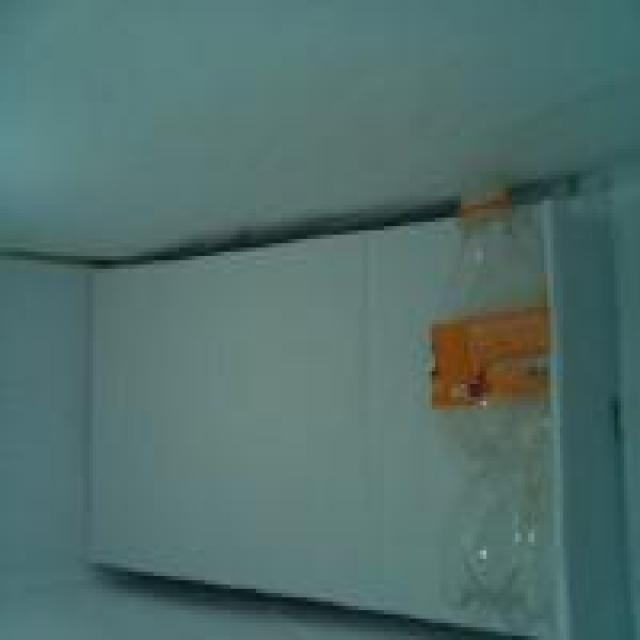bottle: (397, 151, 588, 631)
